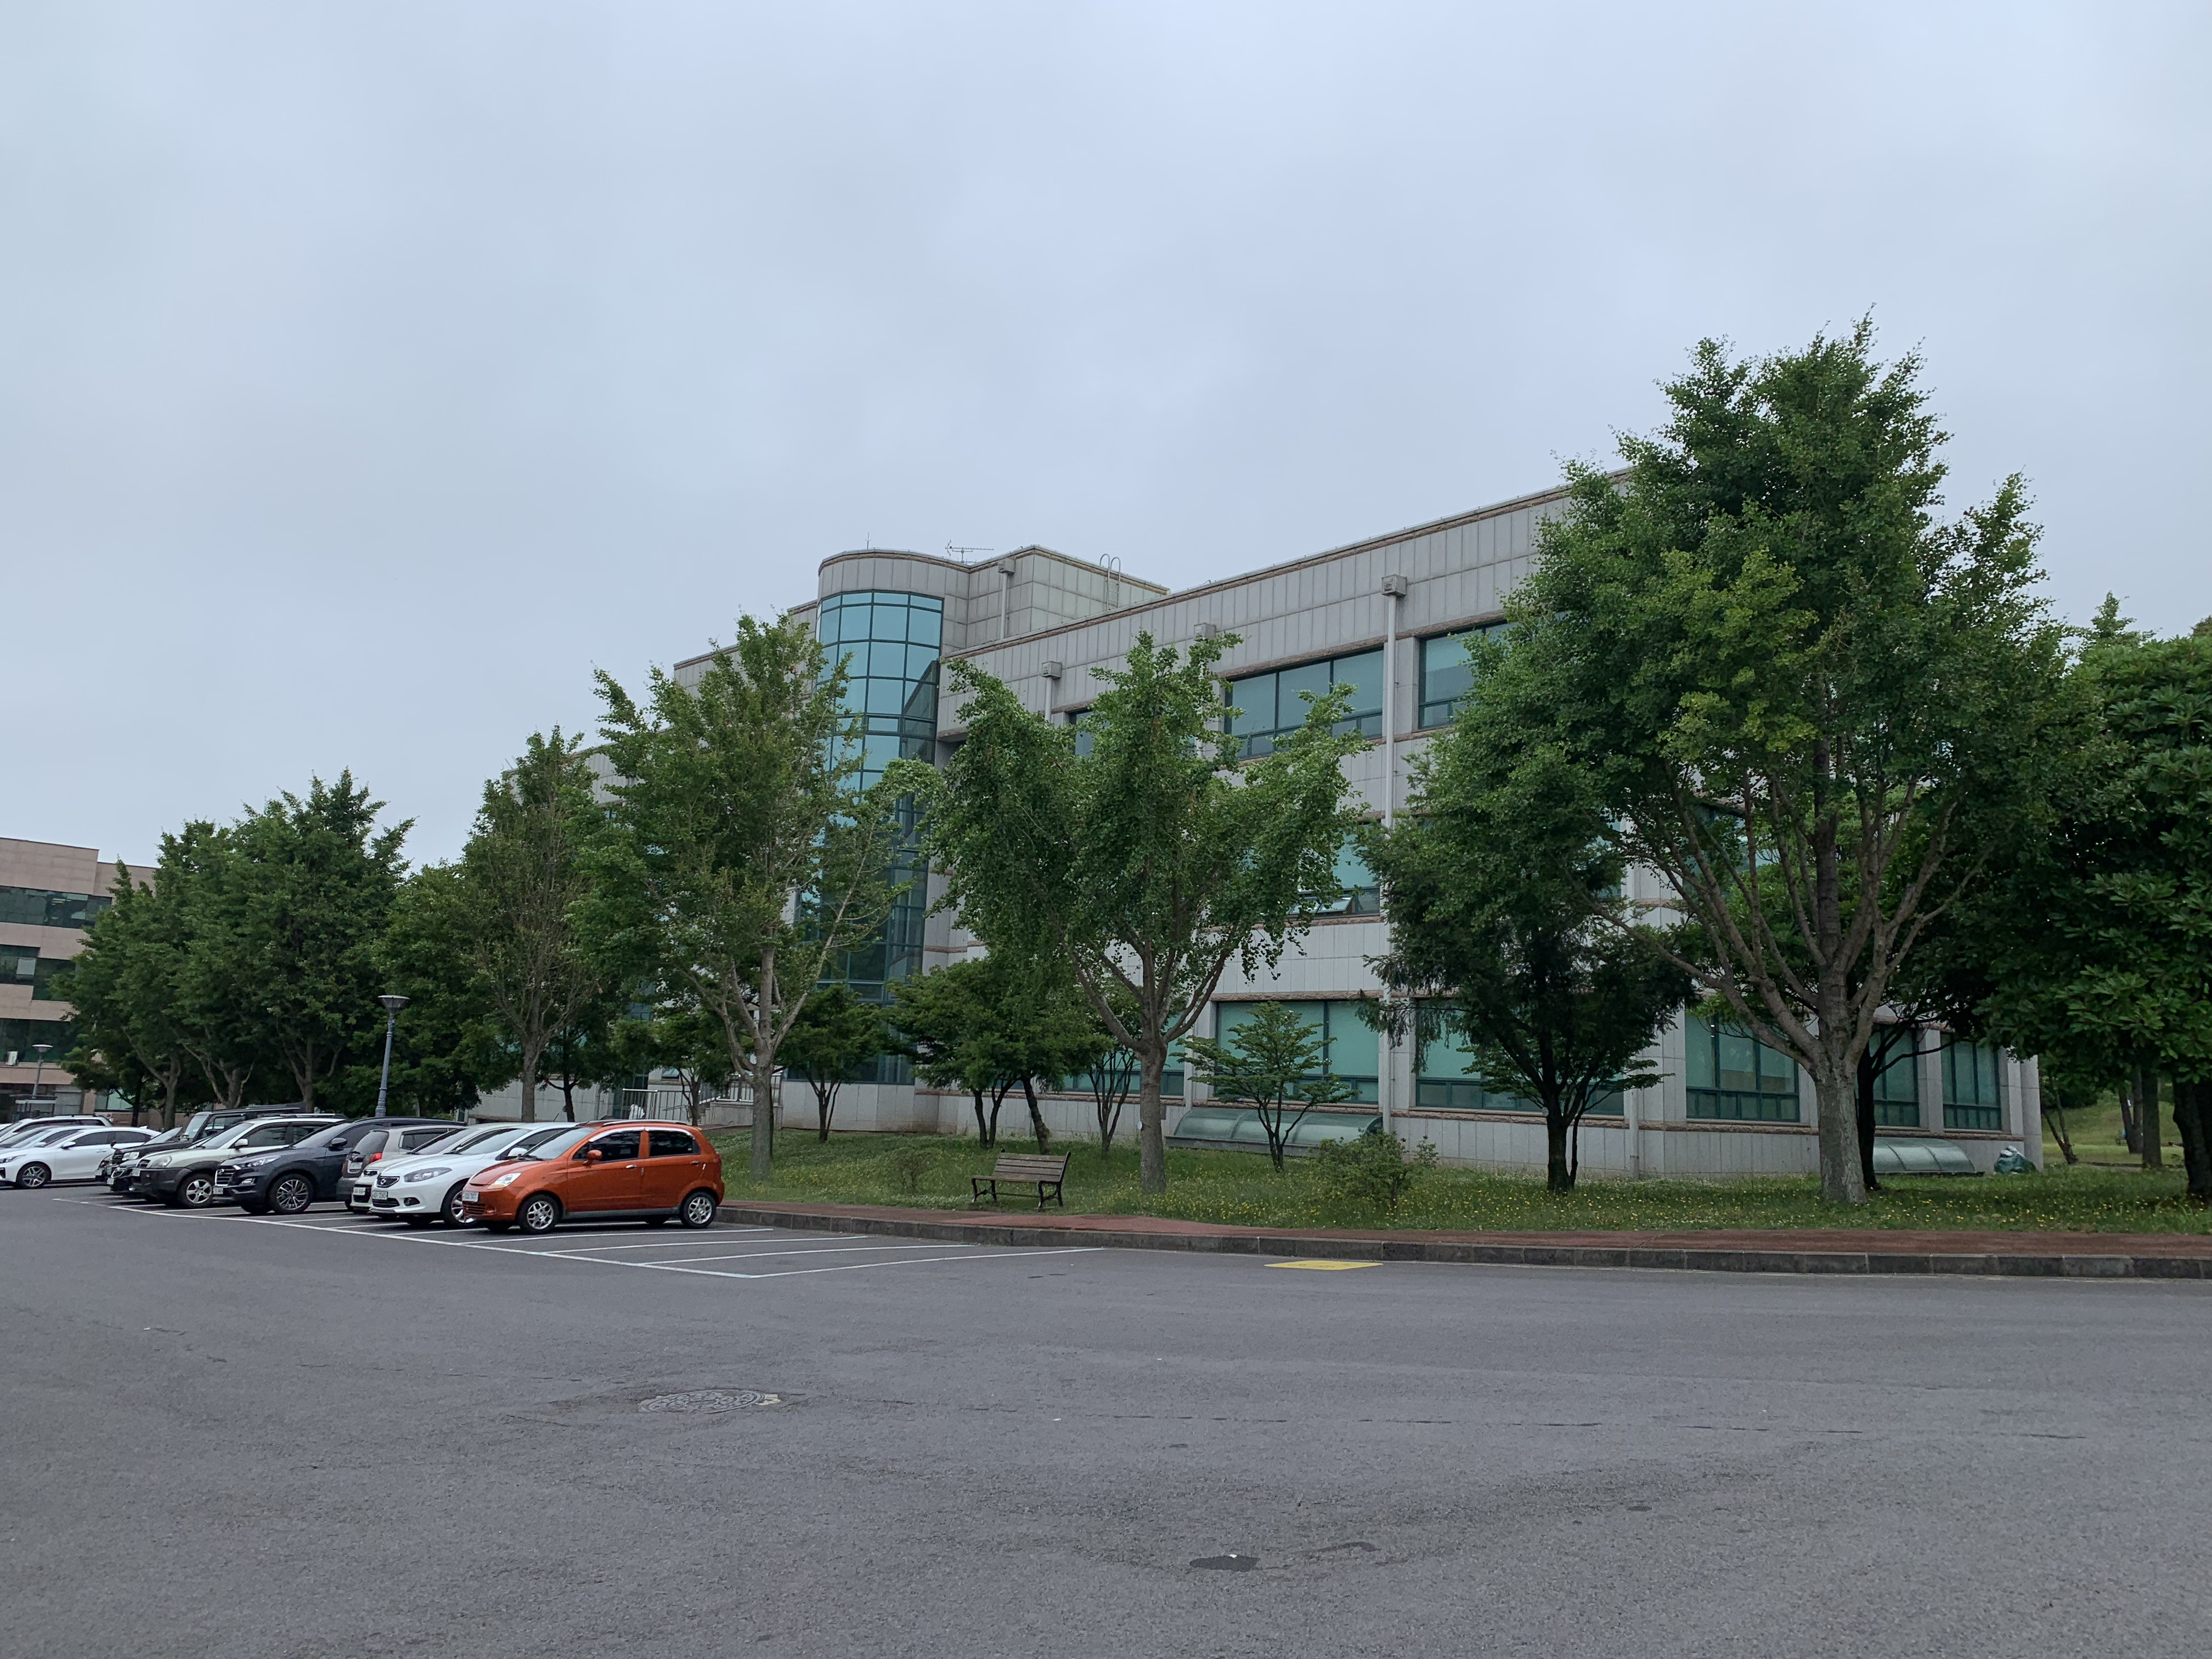Joint Experimental Labs: (0, 838, 160, 1133)
Second Library: (662, 509, 2038, 1201)
